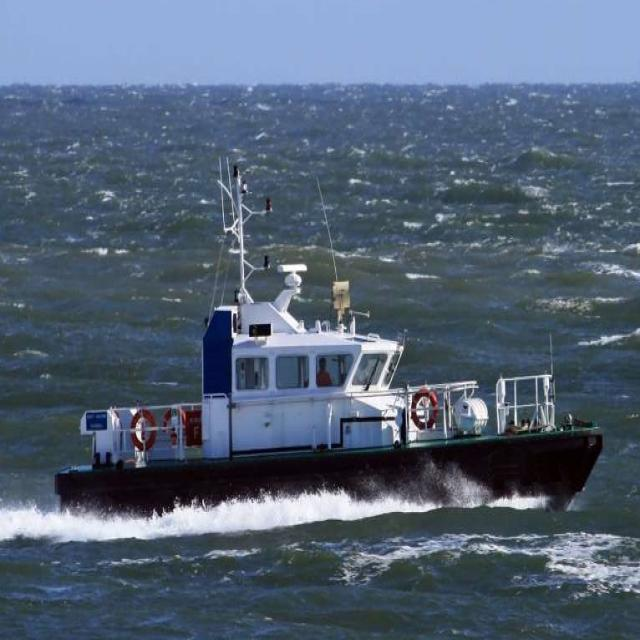houseboat: (51, 175, 606, 527)
